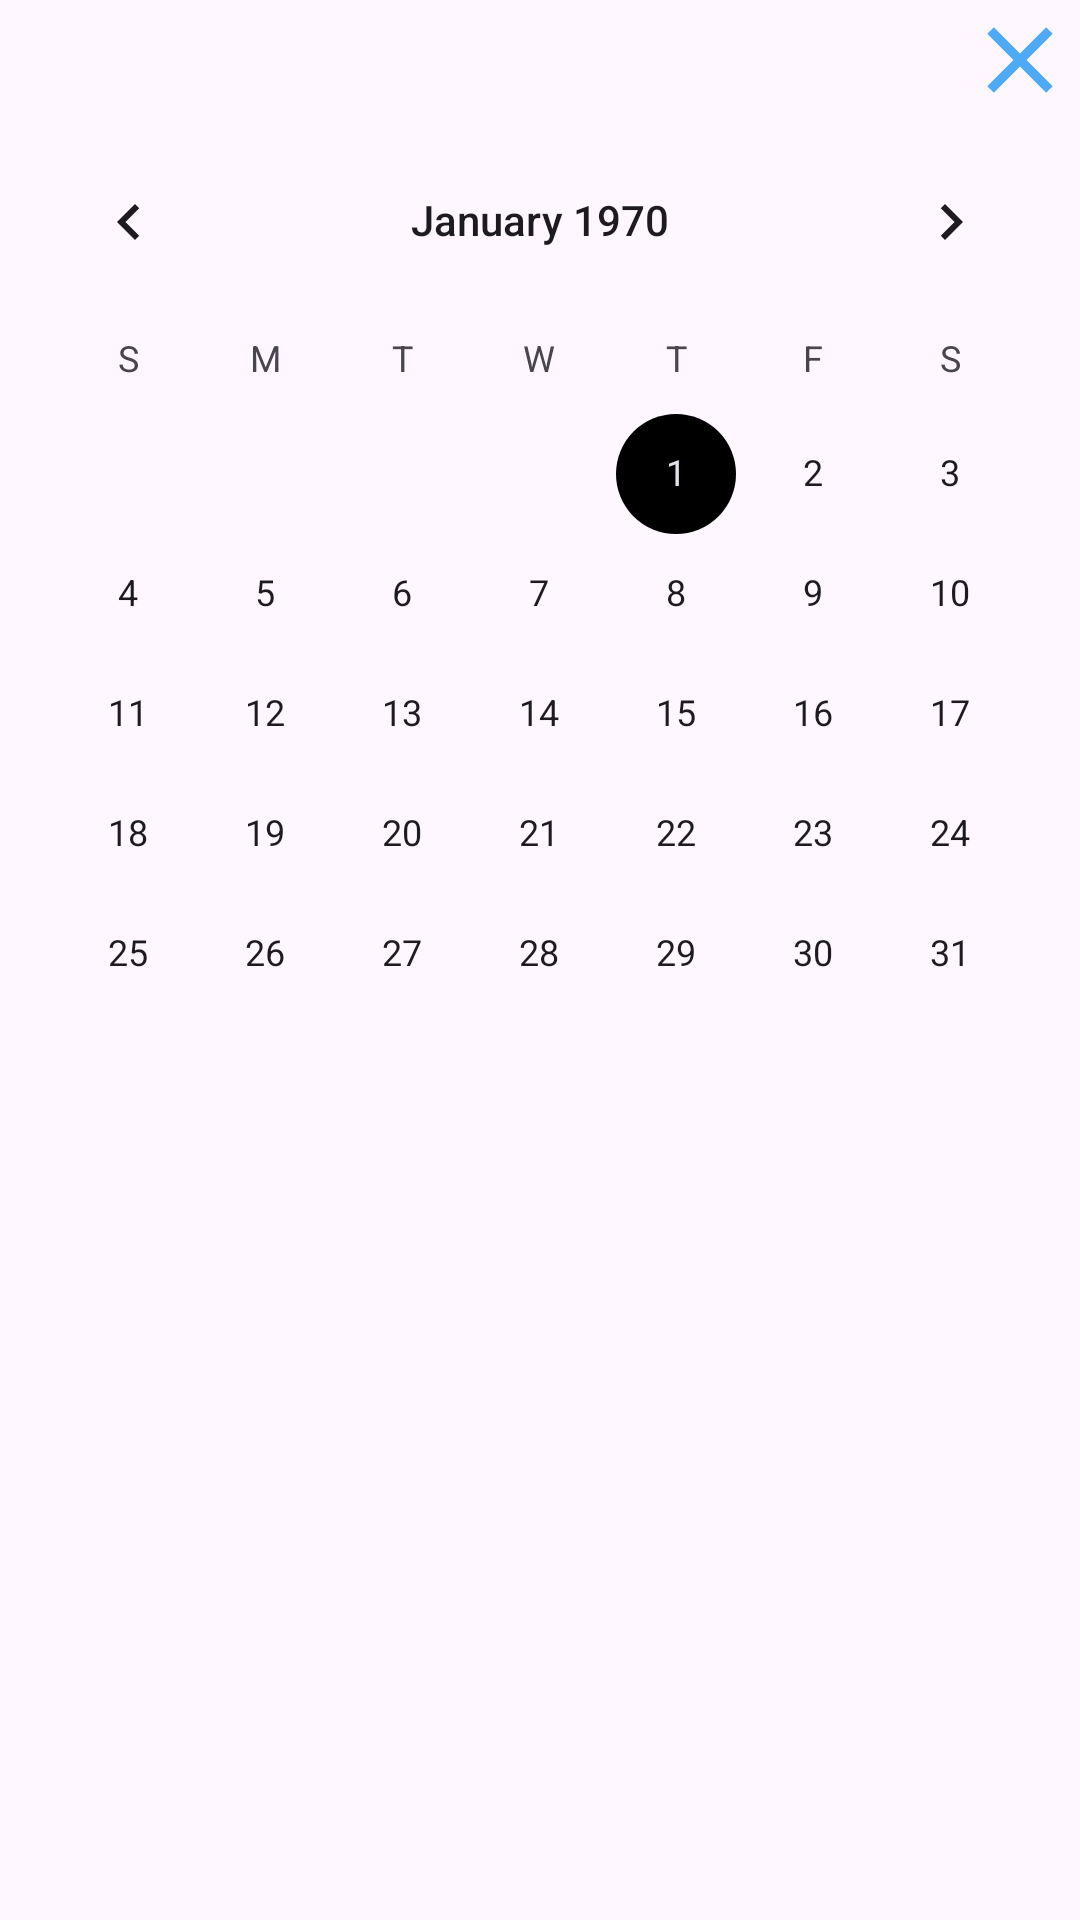

Icon bounding boxes for this 1080 × 1920 phone screenshot, format {"left": x1, "top": y1, "right": x2, "bottom": y2}:
close: {"left": 987, "top": 27, "right": 1053, "bottom": 93}
